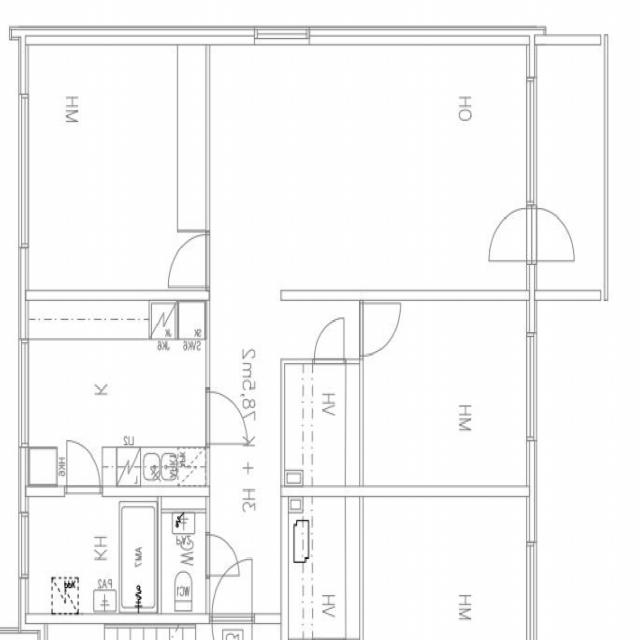door: (214, 559, 252, 624), (490, 210, 537, 260), (527, 210, 574, 260), (206, 392, 248, 444), (358, 304, 400, 354), (169, 235, 210, 286), (67, 441, 100, 494), (206, 535, 239, 576), (315, 319, 344, 365)
